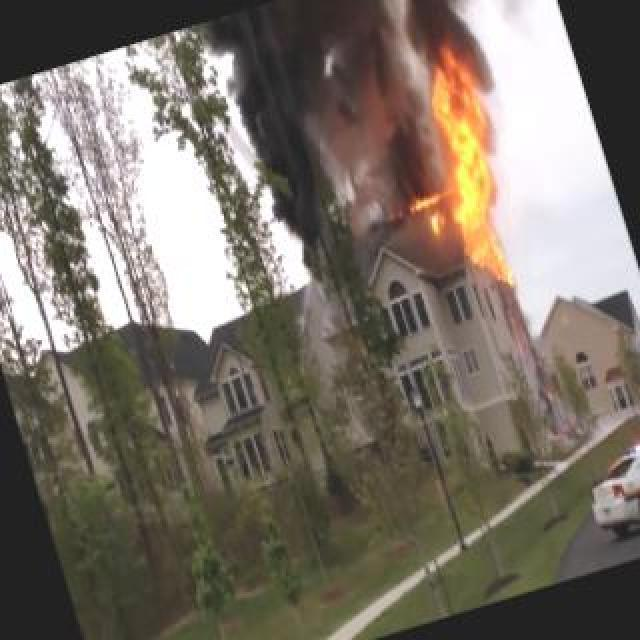fire: (396, 29, 544, 301), (404, 184, 454, 244)
smoke: (196, 0, 456, 270), (384, 0, 508, 110)
